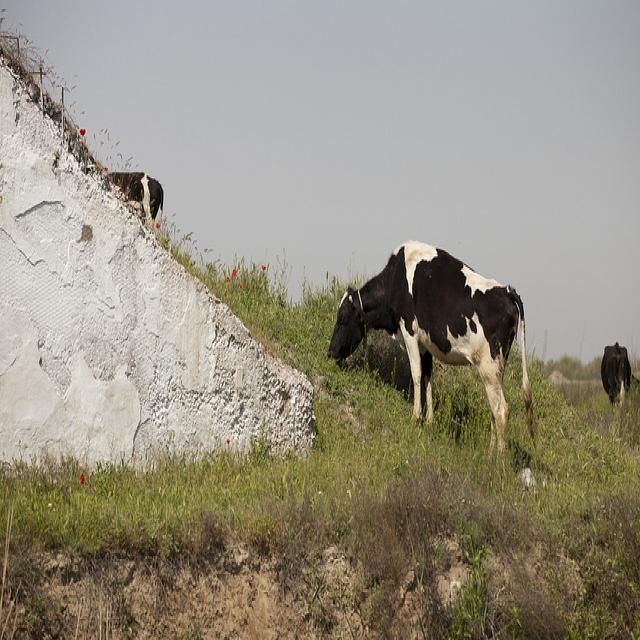cow: (325, 240, 535, 475), (106, 168, 164, 228), (599, 339, 631, 406)
